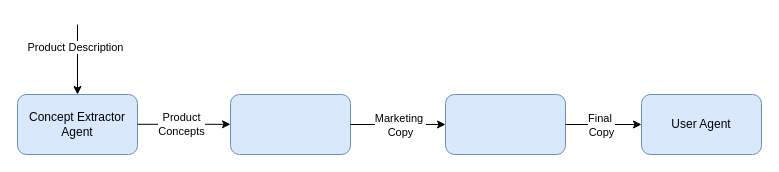
The diagram is 779 pixels wide and 172 high, and some of its shapes have lost their labels. Here are the shapes that lost their labels. From the top down, the centre of each, then its label:
(x=290, y=124): Writer Agent
(x=505, y=124): Format Proof Agent
